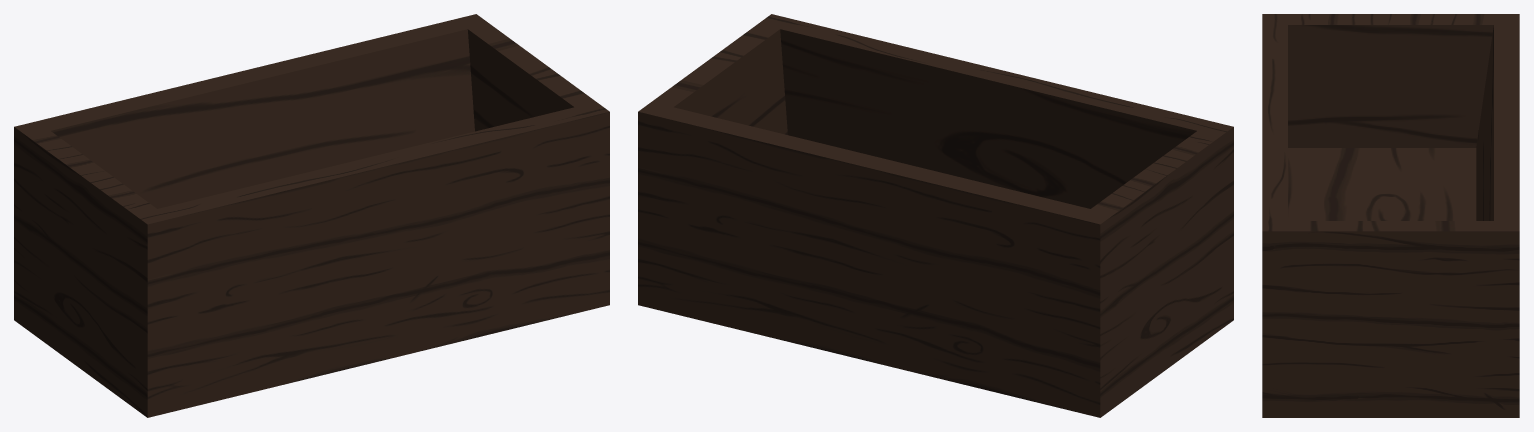
File: Chest.fbx
3 renders of one model, left to right at view 1: azimuth 30°, elevation 25°; view 2: azimuth 150°, elevation 25°; view 3: azimuth 270°, elevation 25°, orthographic. The views are drawn at different scales.
Parts seen in each view (by area): view 1: Chest; view 2: Chest; view 3: Chest.
Part boxes in pixels (x1,y1,x2,y2): Chest: (14, 14, 609, 417); Chest: (638, 14, 1233, 417); Chest: (1262, 14, 1519, 417).
Bounding box in the file's own units: 100 × 40 × 50.
Materials: 1 (1 with a texture image).
